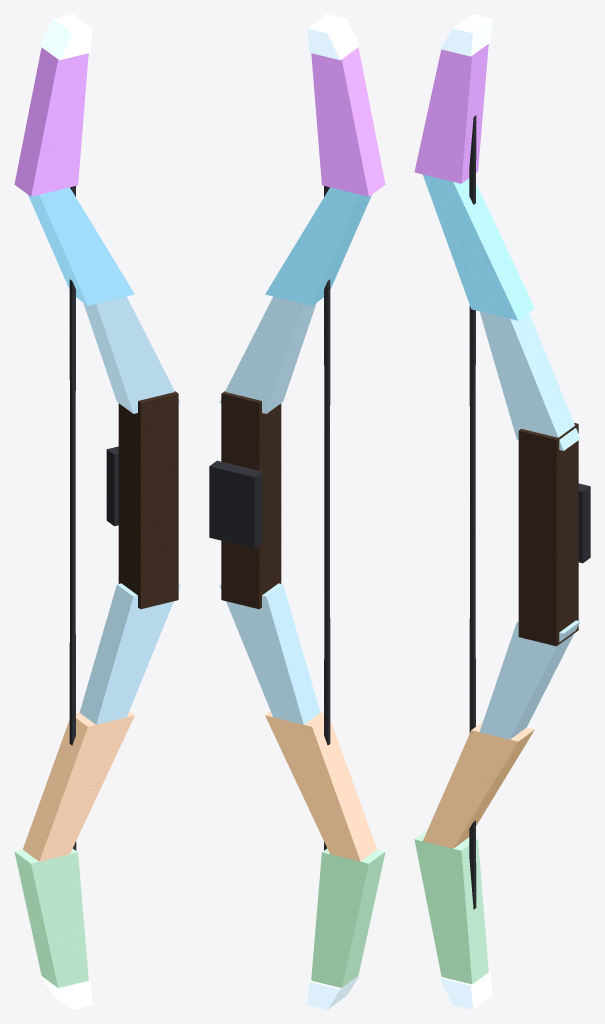
File: crystal-weapon-bow.glb
3 renders of one model, left to right at view 1: azimuth 30°, elevation 25°; view 2: azimuth 150°, elevation 25°; view 3: azimuth 330°, elevation 25°, orthographic.
Visible parts, largest first — view 1: riser, upper-outer, lower-mid, lower-outer, lower-inner, upper-mid, upper-inner, upper-cap, string-upper, string-lower, grip-band, lower-cap; view 2: riser, upper-outer, lower-mid, lower-outer, lower-inner, upper-mid, upper-inner, grip-band, upper-cap, string-upper, string-lower, lower-cap; view 3: riser, upper-mid, lower-outer, upper-inner, upper-outer, lower-mid, lower-inner, string-lower, string-upper, upper-cap, lower-cap, grip-band.
Boxes of the visible parts, x1,y1,x2,y2 form: riser: (118,391,178,609); upper-outer: (14,47,88,196); lower-mid: (22,711,134,861); lower-outer: (14,848,88,987); lower-inner: (79,583,180,724); upper-mid: (28,187,134,305); upper-inner: (83,296,180,413); upper-cap: (40,14,92,60); string-upper: (69,186,76,513); string-lower: (69,511,76,850); grip-band: (106,446,118,526); lower-cap: (40,974,92,1009); riser: (221,391,281,609); upper-outer: (311,47,385,196); lower-mid: (265,711,377,861); lower-outer: (311,848,385,987); lower-inner: (219,583,320,724); upper-mid: (265,187,371,305); upper-inner: (219,296,316,413); grip-band: (209,460,262,548); upper-cap: (307,14,359,60); string-upper: (324,186,330,513); string-lower: (324,511,330,850); lower-cap: (307,974,359,1009); riser: (518,423,578,646); upper-mid: (422,174,534,320); lower-outer: (414,830,488,984); upper-inner: (479,311,580,450); upper-outer: (414,44,488,183); lower-mid: (423,722,534,848); lower-inner: (479,620,580,739); string-lower: (469,511,476,909); string-upper: (469,115,476,513); upper-cap: (440,14,492,56); lower-cap: (440,971,492,1009); grip-band: (578,483,590,563).
Bounding box in the file's own units: 0.2955 × 1.85 × 0.1031.
Materials: 8 (8 with a texture image).
